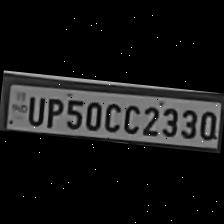0: (82, 98, 104, 132), (196, 108, 219, 140)
2: (140, 102, 162, 136)
3: (177, 104, 198, 140), (158, 104, 180, 138)
5: (61, 95, 84, 131)
C: (119, 101, 142, 135), (102, 99, 122, 133)
P: (42, 94, 64, 128)
U: (24, 93, 46, 127)
